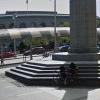stairs: (46, 62, 100, 89), (7, 60, 46, 90)
